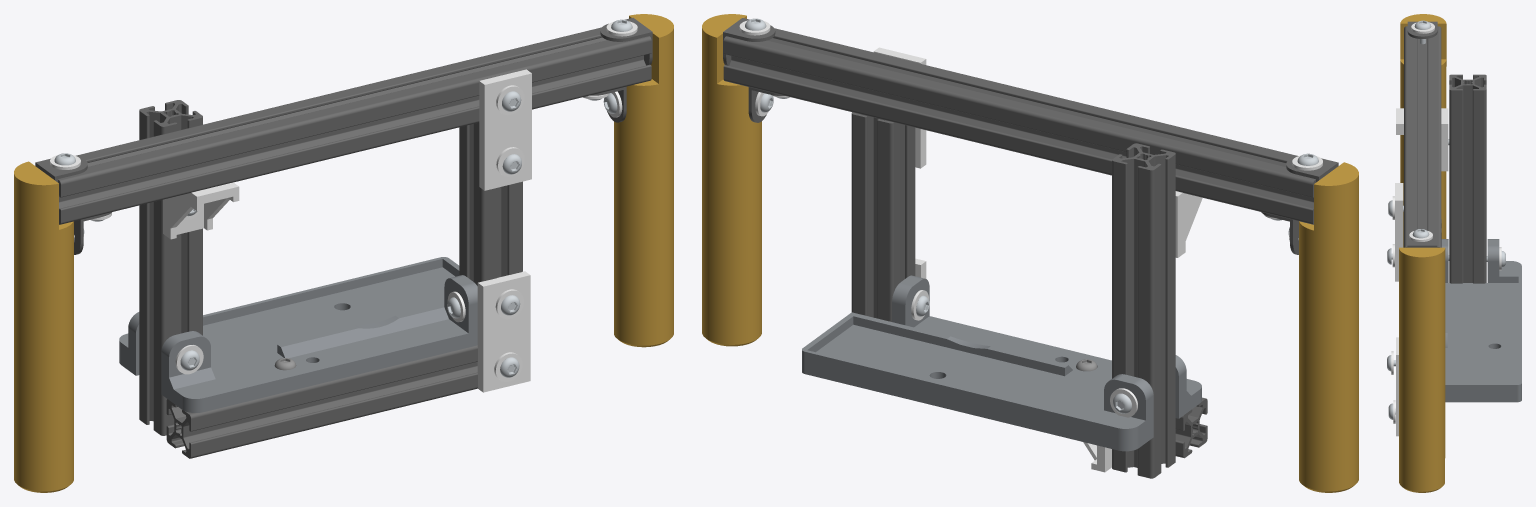
File: Assembly.gltf
3 views of the same model, side by side, from view 1: azimuth 30°, elevation 25°; view 2: azimuth 150°, elevation 25°; view 3: azimuth 270°, elevation 25° (orthographic). The views are drawn at different scales.
Visible parts, largest first — view 1: Part 1 (×6), FDBE3A6E-6DCB-4106-BDCB-0056611E6EB1, 5CEE557B-D5EC-4669-9706-9352D9815B4E (×3); view 2: Part 1 (×5), FDBE3A6E-6DCB-4106-BDCB-0056611E6EB1, 5CEE557B-D5EC-4669-9706-9352D9815B4E (×3); view 3: Part 1 (×8), 5CEE557B-D5EC-4669-9706-9352D9815B4E, FDBE3A6E-6DCB-4106-BDCB-0056611E6EB1.
Boxes of the visible parts, <box> form: Part 1 (×6): <box>14,14,673,492</box>; FDBE3A6E-6DCB-4106-BDCB-0056611E6EB1: <box>58,27,651,224</box>; 5CEE557B-D5EC-4669-9706-9352D9815B4E (×3): <box>139,100,522,458</box>; Part 1 (×5): <box>702,14,1358,492</box>; FDBE3A6E-6DCB-4106-BDCB-0056611E6EB1: <box>723,28,1315,224</box>; 5CEE557B-D5EC-4669-9706-9352D9815B4E (×3): <box>851,112,1207,478</box>; Part 1 (×8): <box>1395,14,1521,492</box>; 5CEE557B-D5EC-4669-9706-9352D9815B4E: <box>1449,74,1486,283</box>; FDBE3A6E-6DCB-4106-BDCB-0056611E6EB1: <box>1404,26,1441,247</box>.
Bounding box in the file's own units: 0.3088 × 0.1462 × 0.0723.
